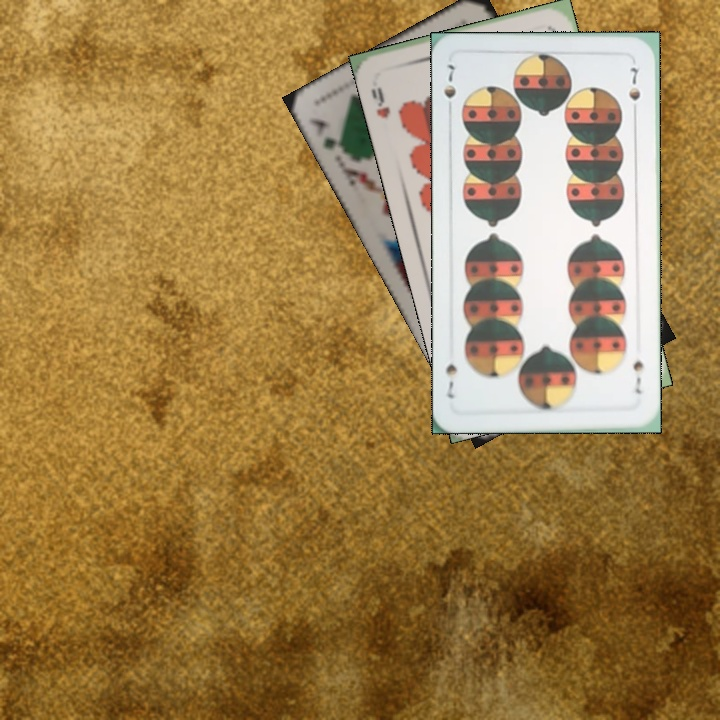GK: (306, 114, 352, 158)
H9: (367, 83, 393, 121)
S7: (440, 61, 458, 117), (629, 357, 646, 397)
